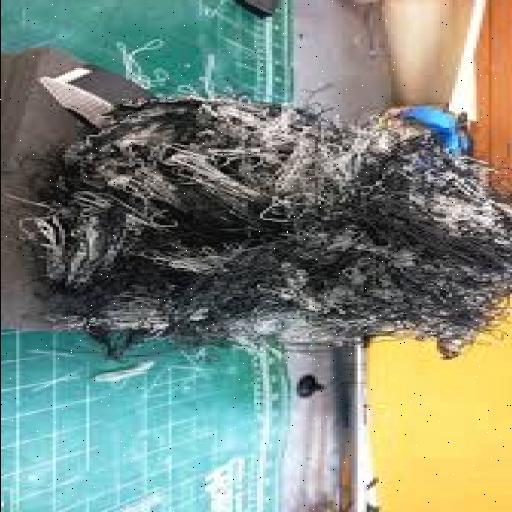spaghetti: (26, 100, 497, 364)
